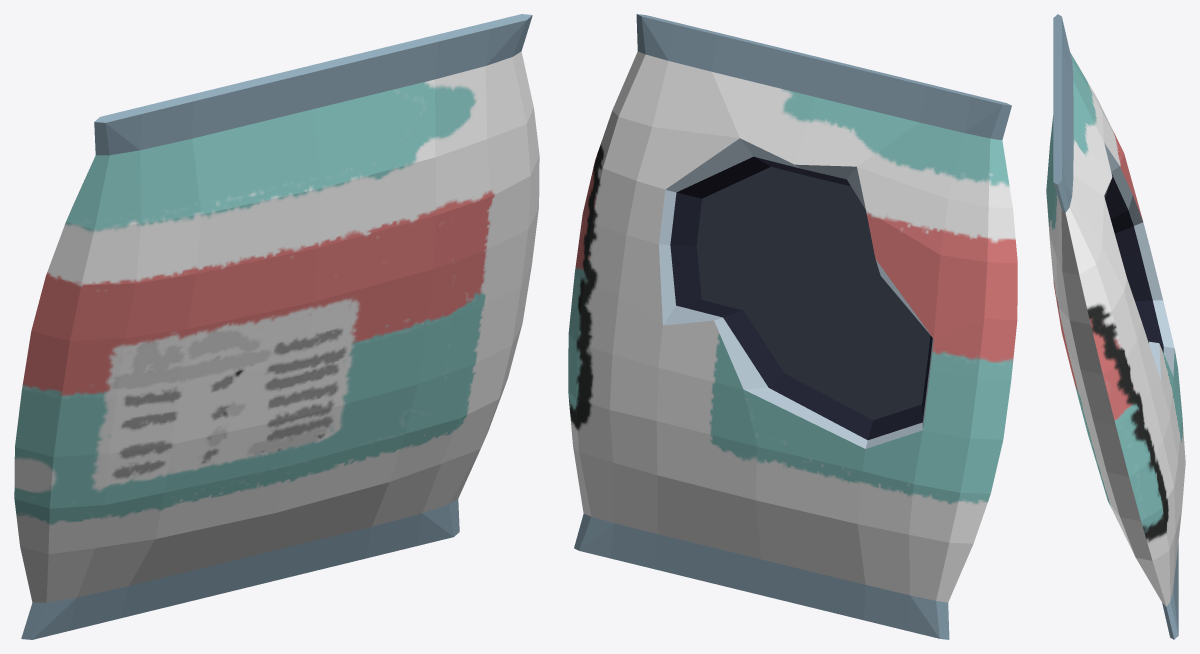
Rendered from JunkWrapper.Chip.fbx.
The picture shows the model from 3 angles, left to right: view 1: azimuth 30°, elevation 25°; view 2: azimuth 150°, elevation 25°; view 3: azimuth 270°, elevation 25°; orthographic projection. The views are drawn at different scales.
Visible parts, largest first — view 1: JunkWrapper.Chip; view 2: JunkWrapper.Chip; view 3: JunkWrapper.Chip.
Boxes of the visible parts, x1,y1,x2,y2 form: JunkWrapper.Chip: (14, 14, 539, 639); JunkWrapper.Chip: (568, 14, 1017, 639); JunkWrapper.Chip: (1046, 14, 1185, 639).
Bounding box in the file's own units: 116 × 125 × 34.44.
